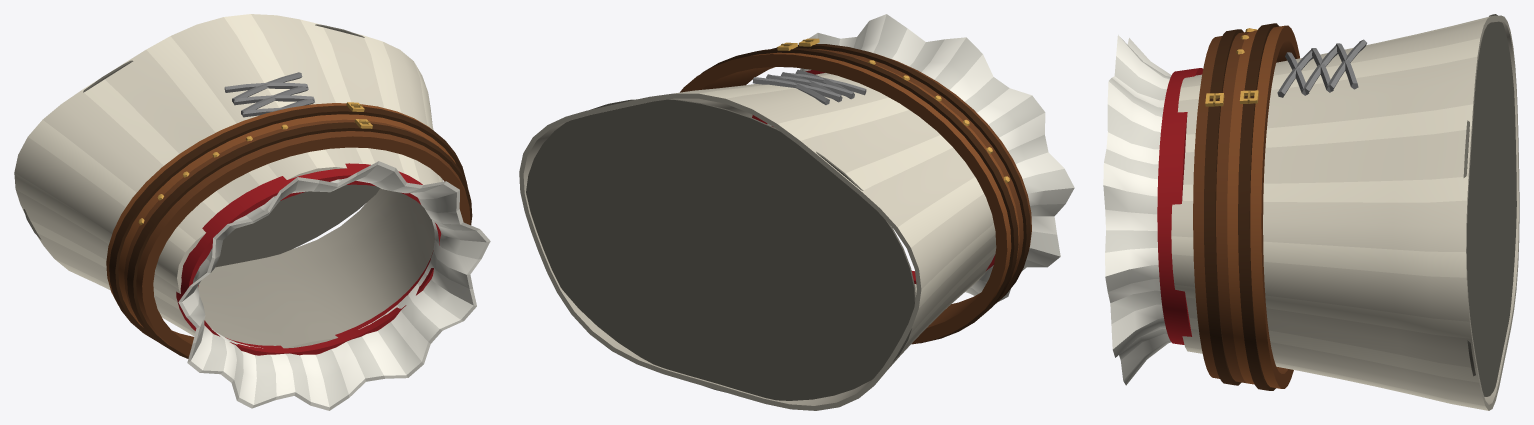
File: Sleeve_Pirate.fbx
3 renders of one model, left to right at view 1: azimuth 30°, elevation 25°; view 2: azimuth 150°, elevation 25°; view 3: azimuth 270°, elevation 25°, orthographic. The views are drawn at different scales.
Parts seen in each view (by area): view 1: Sleeve_Pirate; view 2: Sleeve_Pirate; view 3: Sleeve_Pirate.
Boxes of the visible parts, x1,y1,x2,y2 form: Sleeve_Pirate: [14, 14, 490, 410]; Sleeve_Pirate: [519, 14, 1074, 410]; Sleeve_Pirate: [1103, 14, 1519, 410].
Bounding box in the file's own units: 1.09 × 0.7536 × 0.8219.
1 material, 1 textured.
